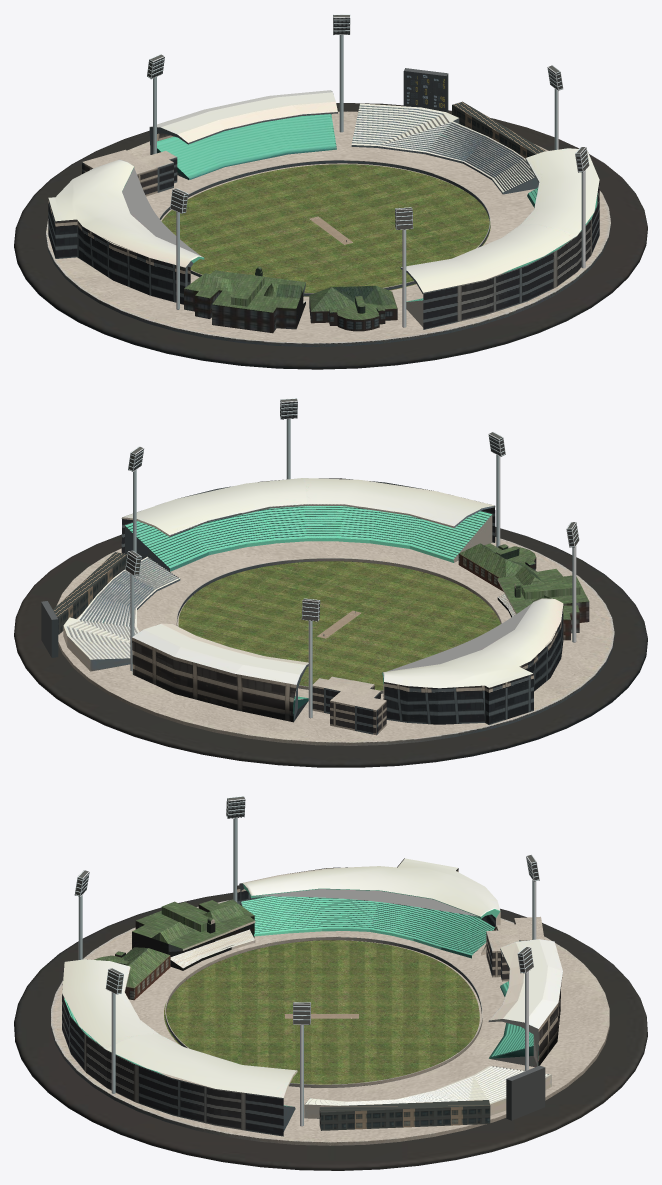
3 views of the same model, one above another, from view 1: azimuth 30°, elevation 25°; view 2: azimuth 150°, elevation 25°; view 3: azimuth 270°, elevation 25° (orthographic). The views are drawn at different scales.
Parts seen in each view (by area): view 1: Circle002, Cylinder031, pCylinder9, polySurface66 Object004, polySurface64, polySurface53, polySurface40, STPES, polySurface15, TOP_BULDING, textureEditorIsolateSelectSet polySurface62, polySurface62 (+12 smaller); view 2: Circle002, Cylinder031, pCylinder9, polySurface60, polySurface64, polySurface15, STPES, Object004 polySurface67 polySurface65, polySurface53, polySurface66 Object004, Building_Wall1, textureEditorIsolateSelectSet polySurface62 (+14 smaller); view 3: Circle002, Cylinder031, pCylinder9, polySurface64, polySurface32, polySurface40, STPES, polySurface66 Object004, polySurface59, textureEditorIsolateSelectSet polySurface62, polySurface53, polySurface62 (+13 smaller).
Boxes of the visible parts, x1,y1,x2,y2 form: Circle002: (161, 164, 490, 296); Cylinder031: (14, 103, 647, 369); pCylinder9: (46, 111, 610, 346); polySurface66 Object004: (149, 90, 337, 179); polySurface64: (401, 148, 599, 292); polySurface53: (351, 103, 535, 192); polySurface40: (423, 152, 599, 329); STPES: (48, 159, 204, 267); polySurface15: (48, 198, 185, 304); TOP_BULDING: (309, 285, 397, 331); textureEditorIsolateSelectSet polySurface62: (184, 270, 305, 312); polySurface62: (184, 266, 305, 333); Circle002: (178, 561, 500, 690); Cylinder031: (14, 527, 647, 767); pCylinder9: (56, 541, 614, 745); polySurface60: (125, 506, 491, 571); polySurface64: (122, 478, 493, 536); polySurface15: (384, 606, 563, 724); STPES: (382, 598, 563, 688); Object004 polySurface67 polySurface65: (132, 637, 296, 722); polySurface53: (63, 556, 179, 659); polySurface66 Object004: (131, 623, 308, 721); Building_Wall1: (312, 676, 386, 735); textureEditorIsolateSelectSet polySurface62: (497, 565, 589, 619); Circle002: (164, 940, 479, 1084); Cylinder031: (14, 892, 647, 1170); pCylinder9: (51, 900, 609, 1145); polySurface64: (62, 959, 296, 1097); polySurface32: (241, 896, 494, 958); polySurface40: (62, 966, 283, 1136); STPES: (242, 858, 500, 918); polySurface66 Object004: (488, 939, 562, 1067); polySurface59: (319, 1100, 490, 1130); textureEditorIsolateSelectSet polySurface62: (132, 899, 254, 948); polySurface53: (304, 1066, 550, 1105); polySurface62: (132, 904, 255, 970).
Size of the model in its own units: 290 by 63.81 by 276.
7 materials, 7 textured.
